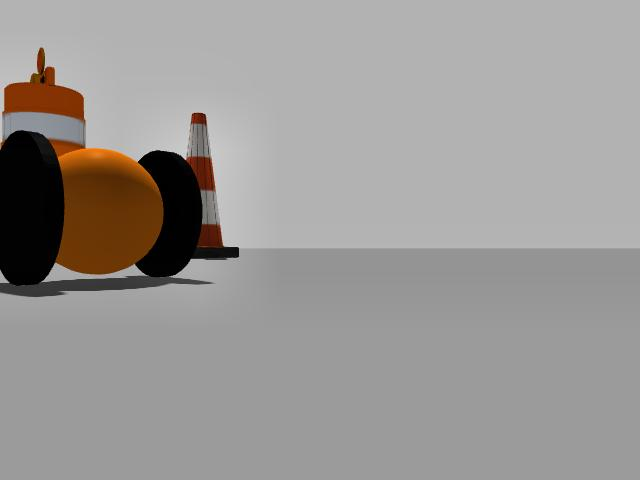target: (0, 130, 204, 286)
